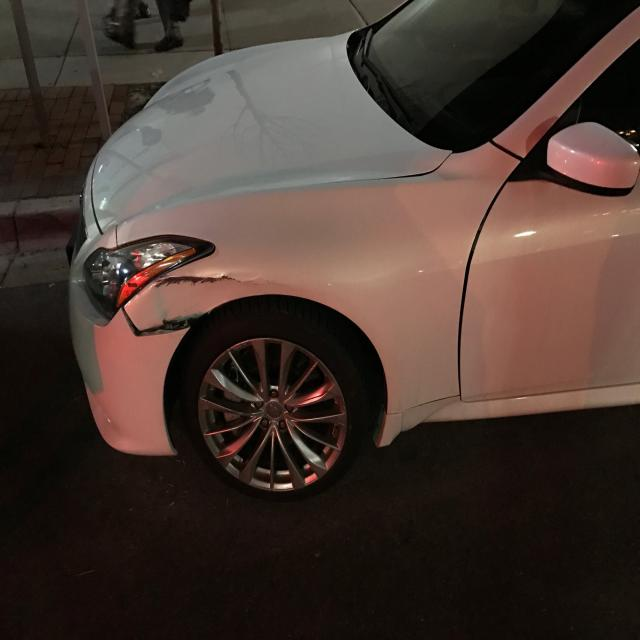dent: (163, 310, 205, 323)
misalignment: (121, 307, 198, 336)
scratch: (154, 274, 285, 292)
